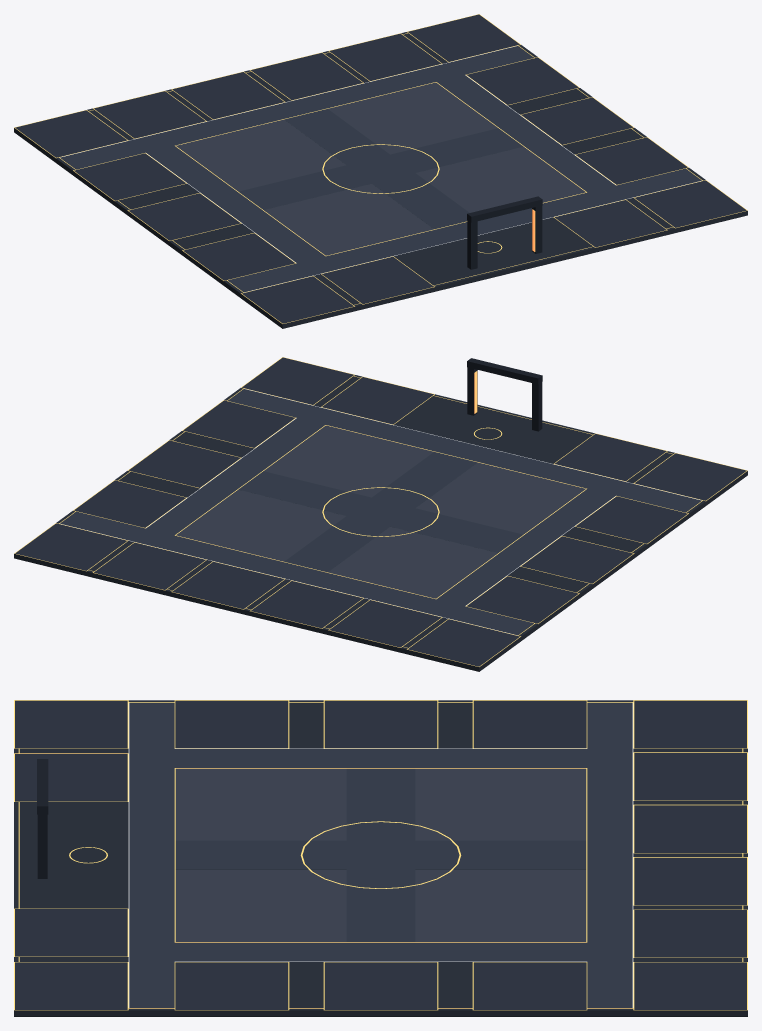
The picture shows the model from 3 angles, top to bottom: view 1: azimuth 30°, elevation 25°; view 2: azimuth 150°, elevation 25°; view 3: azimuth 270°, elevation 25°; orthographic projection. The views are drawn at different scales.
Parts seen in each view (by area): view 1: district_vertical.lod1; view 2: district_vertical.lod1; view 3: district_vertical.lod1.
Part boxes in pixels (bbox=[...]): district_vertical.lod1: bbox=[14, 14, 747, 328]; district_vertical.lod1: bbox=[14, 357, 747, 671]; district_vertical.lod1: bbox=[14, 700, 747, 1016].
Bounding box in the file's own units: 64 × 7.62 × 64.
